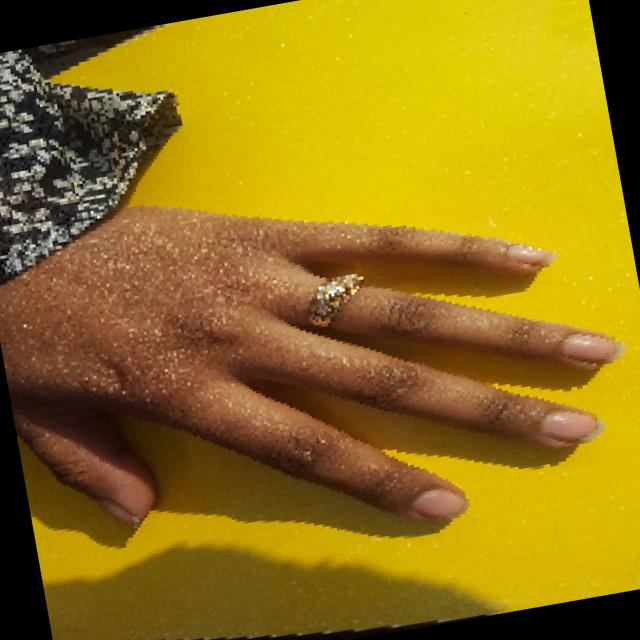Nail: (539, 408, 604, 442), (560, 331, 625, 362), (411, 487, 466, 517), (98, 501, 139, 526), (506, 244, 554, 265)
